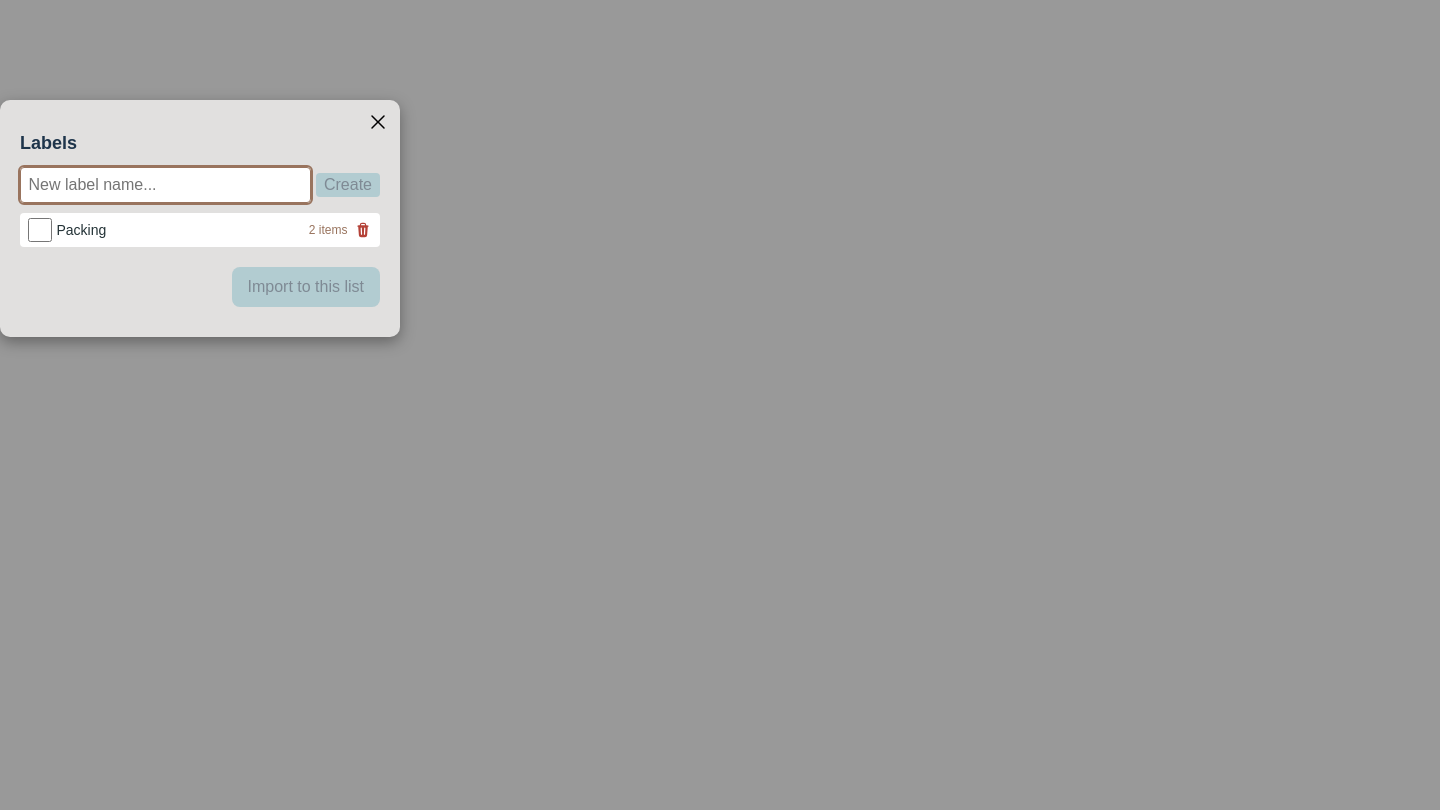
it: imports selected labels into the current list
Expected: the button "Import to this list" is disabled, [232, 267, 380, 307]
Click the checkbox named "Select Packing for import".
click(40, 230)  # box [28, 218, 52, 242]
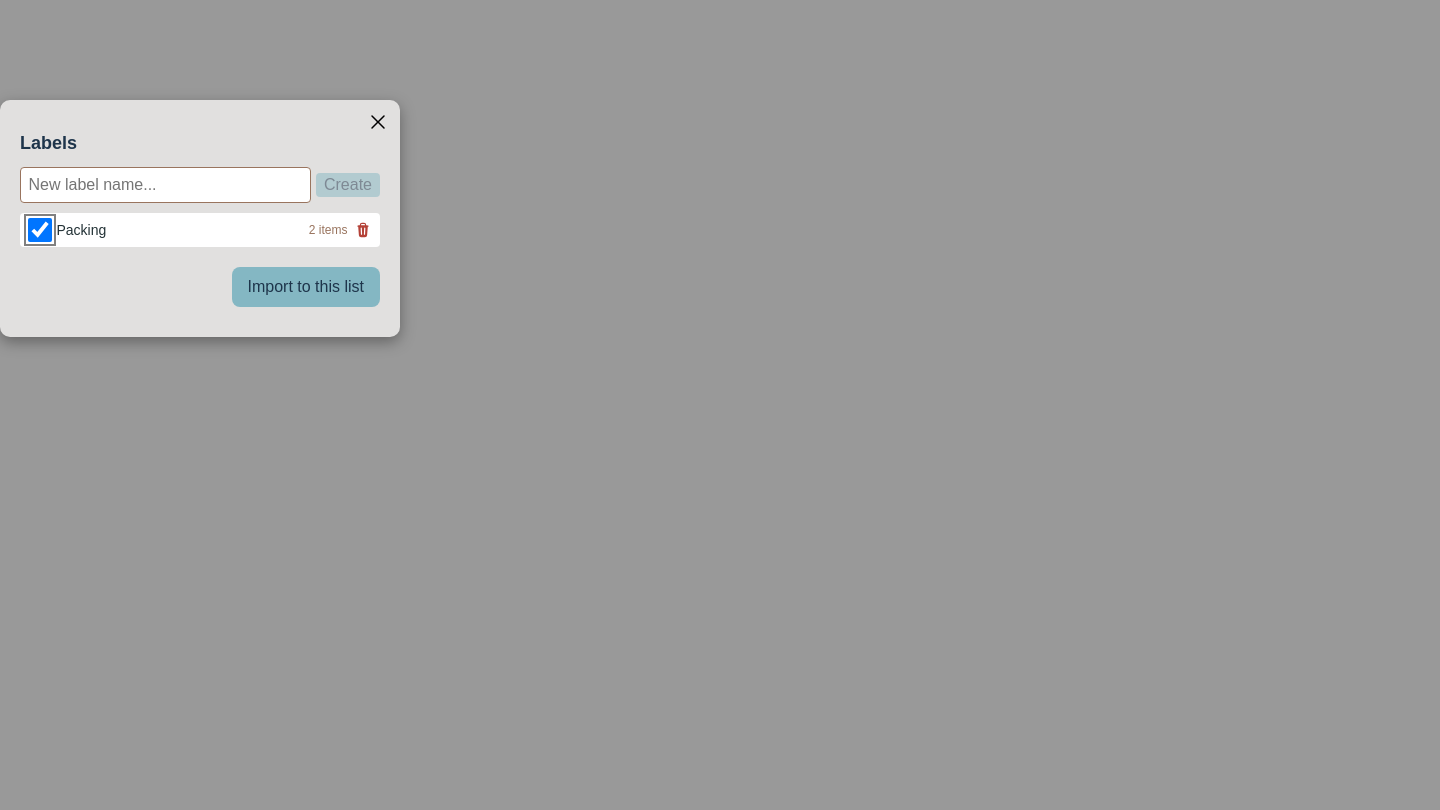
Expected: the button "Import to this list" is enabled
Click the button "Import to this list".
click(306, 287)  # box [232, 267, 380, 307]
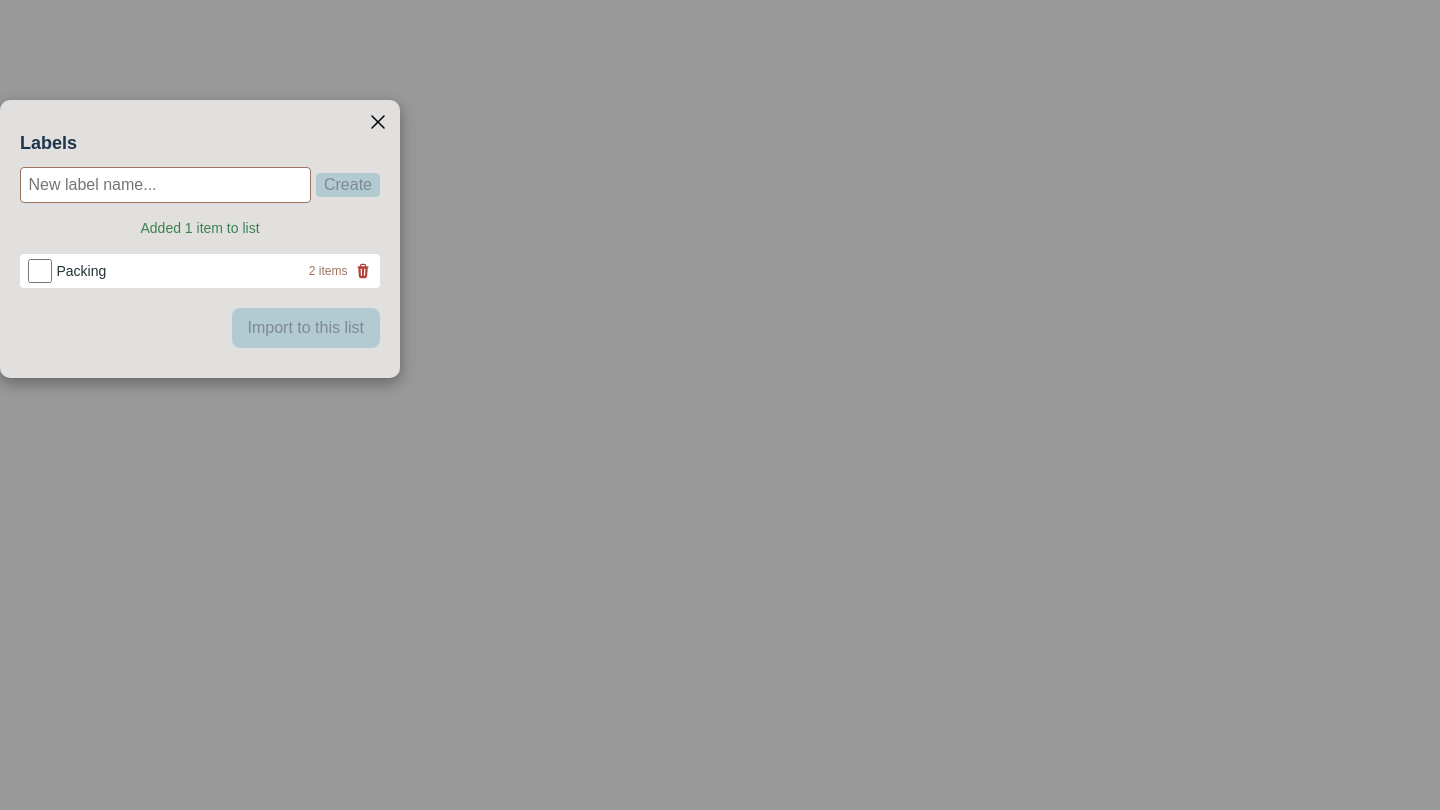
Expected: the text "Added 1 item to list" is shown, [140, 220, 260, 236]
